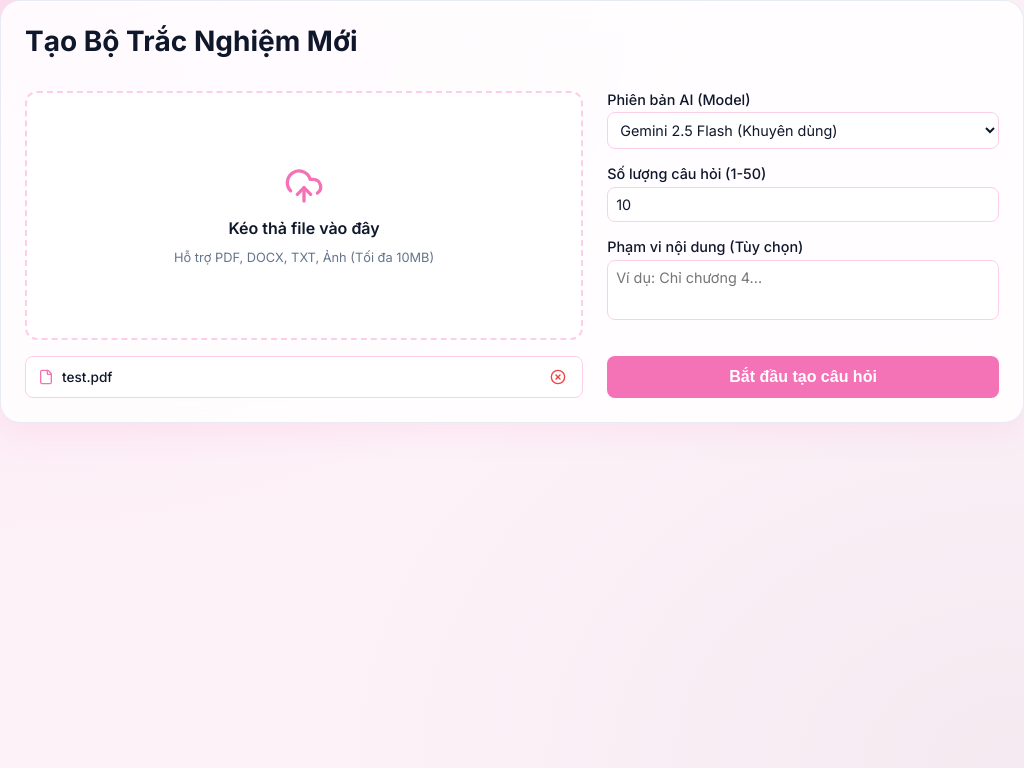
Tier 2: Boundary & Corner Cases › Boundary Group 4: Question Count & Scope Bounds › T2.13: shows error when attempting to generate with 0 questions
Replace the text in the number field with "0" at (803,205), box [607,187,999,222]
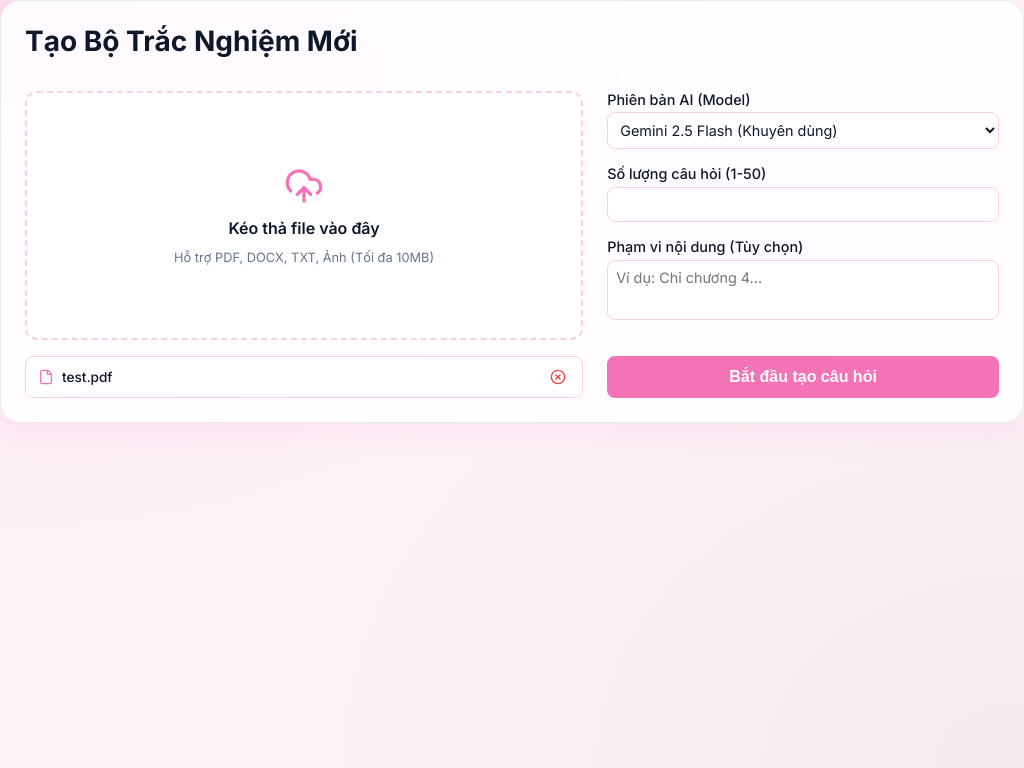
Click the button "Bắt đầu tạo câu hỏi".
click(803, 377)  # box [607,356,999,398]
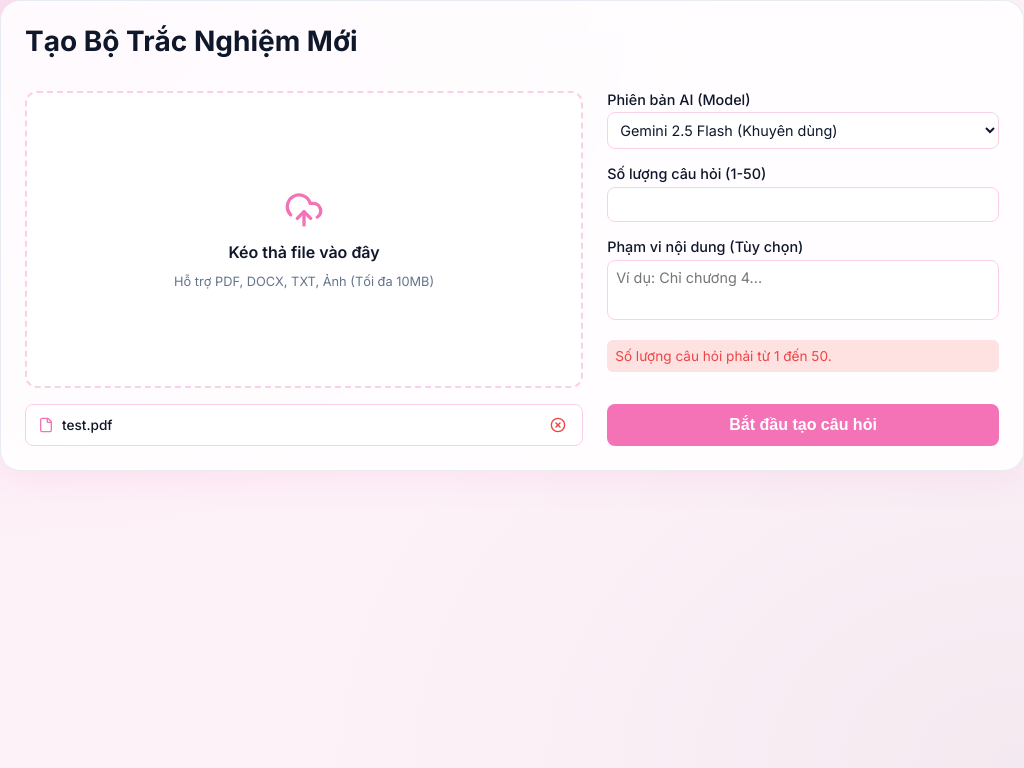
Expected: the text "Số lượng câu hỏi phải từ 1 đến 50." is shown, [607,340,999,372]
